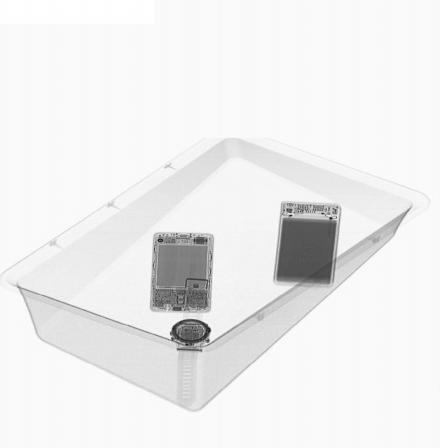Powerbank: (273, 199, 346, 290)
